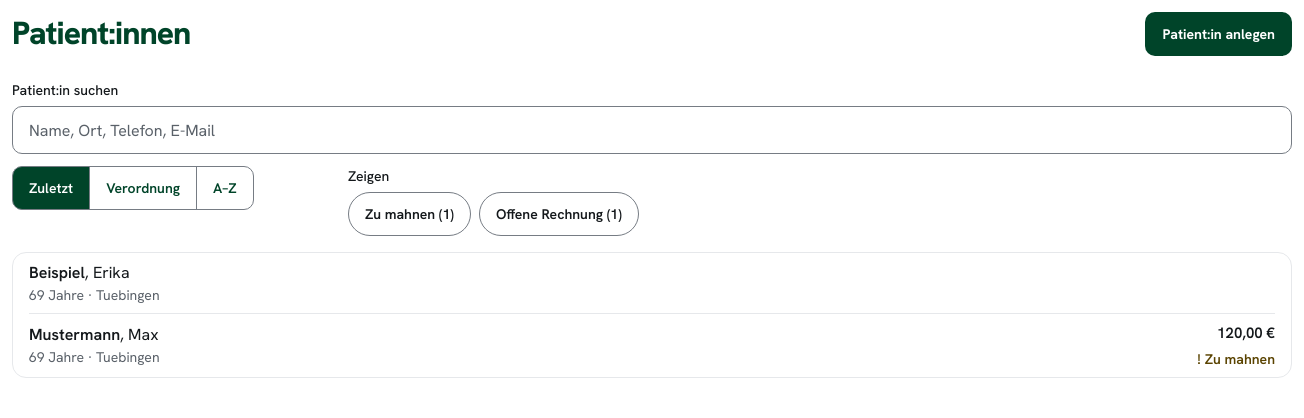
Test: PatientsListPage (B1, B10) › zeigt Offenes und zu Mahnendes nur, wenn der Server es liefert (ANN-139, ANN-516)
Check: the text "Zu mahnen" is shown, box [1205,350,1275,368]
Check: the text "120,00 €" is shown, box [1217,323,1275,343]
Click the button "Zu mahnen (1)" at (409,214), box [348,192,471,236]
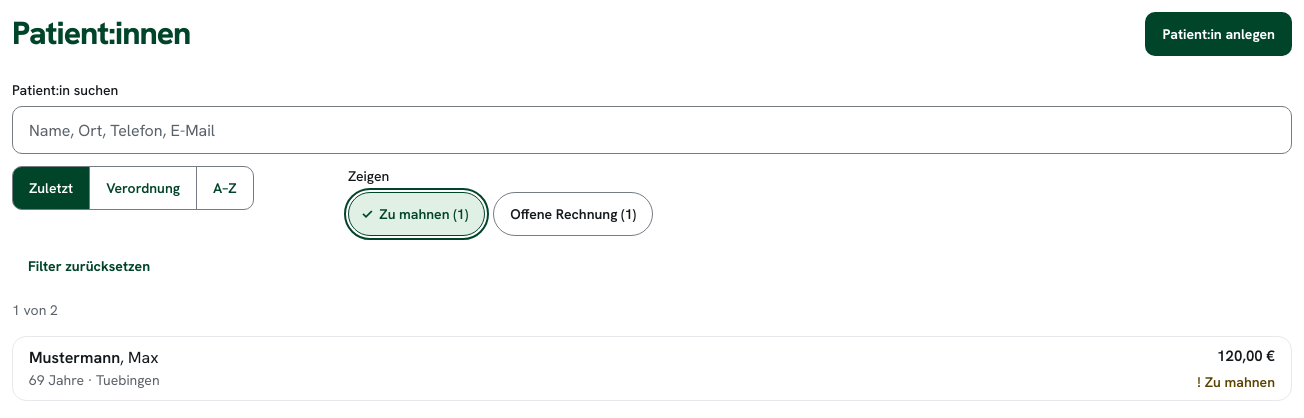
Check: the button "Offene Rechnung (1)" is shown, box [493,192,653,236]
Check: the link "Beispiel, Erika" is gone
